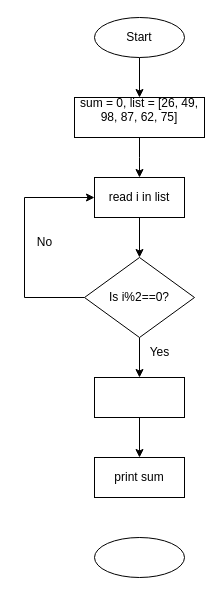
The diagram is 222 pixels wide and 603 high, and some of its shapes have lost their labels. Here are the shapes that lost their labels. From the top down, the centre of each, then its label:
At [139,397]: "sum = sum + i".
At [139,557]: "Stop".
